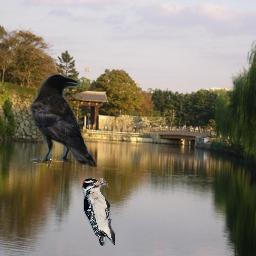Crow: (30, 74, 97, 169)
Woodpecker: (82, 178, 115, 246)
